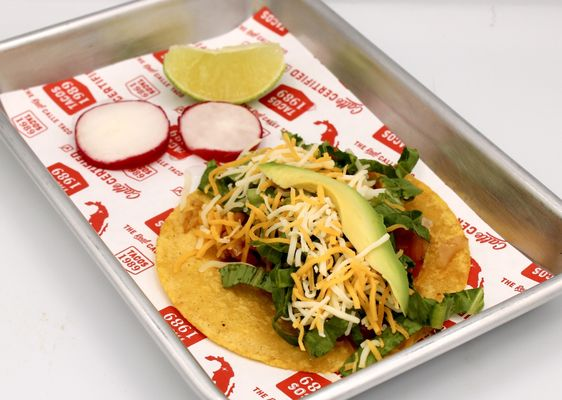taco: (162, 41, 287, 105)
